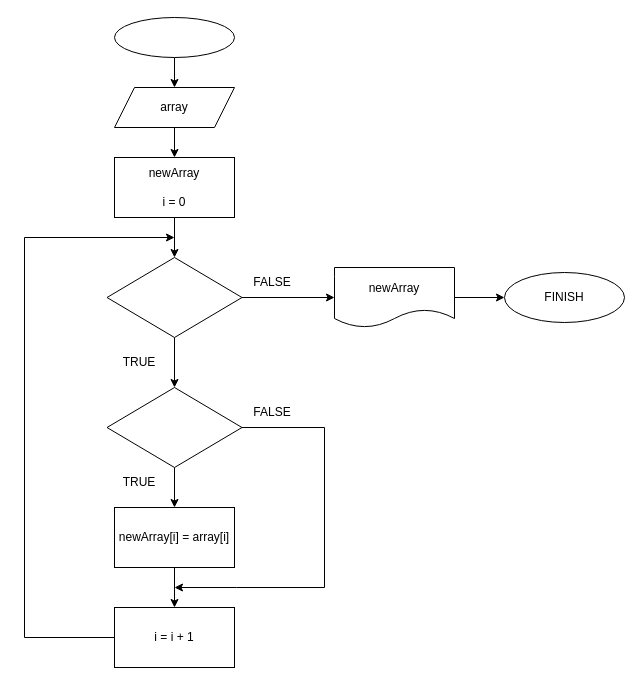
The diagram is 642 pixels wide and 685 high, and some of its shapes have lost their labels. Here are the shapes that lost their labels. From the top down, the centre of each, then its label:
At point 174,37: "START".
At point 174,297: "i < array.Length".
At point 174,427: "array[i].Length < 4".
